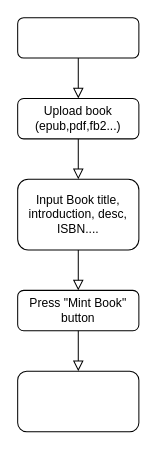
Some shapes in this 157 by 449 pixel diagram are drawn without their labels. The shapes that lost their labels are listed below. From the top down, each one's centre as x and y in pixels, then its label:
point 78,37: Connect your wallet
point 78,401: Wait a moment, your book will become an NFT
